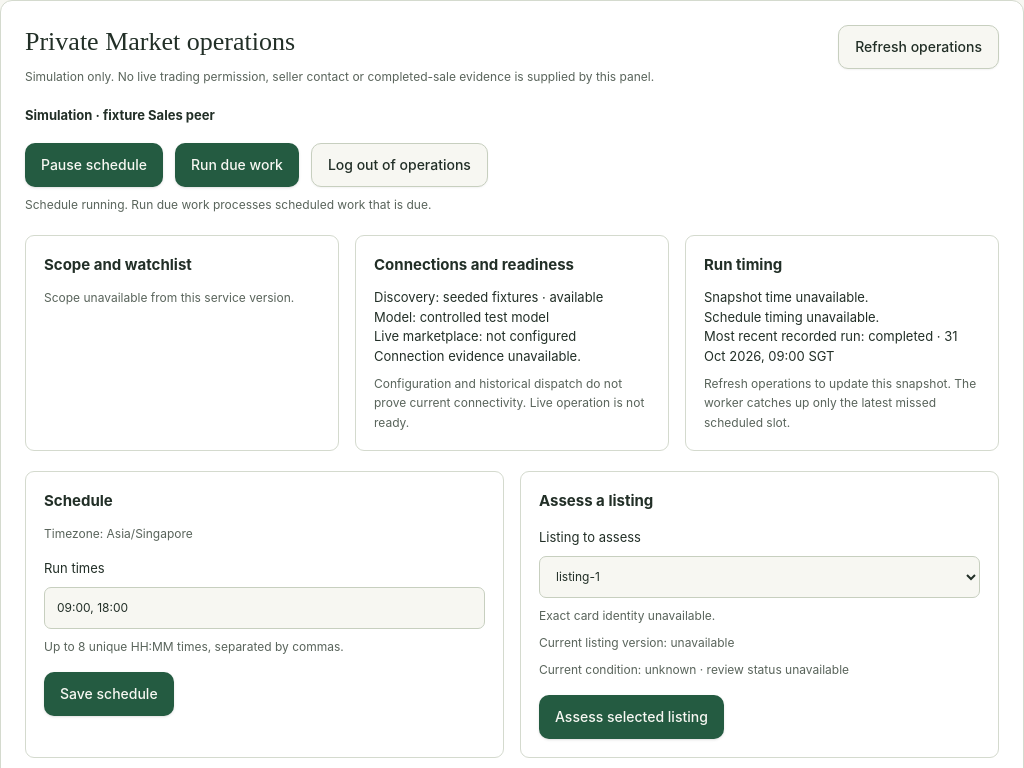
Test: announces failed mutations without reflecting server secrets and marks old records stale
This screenshot has width=1024, height=768.
Click the button "Run due work" at (237, 166), box [175,144,299,188]
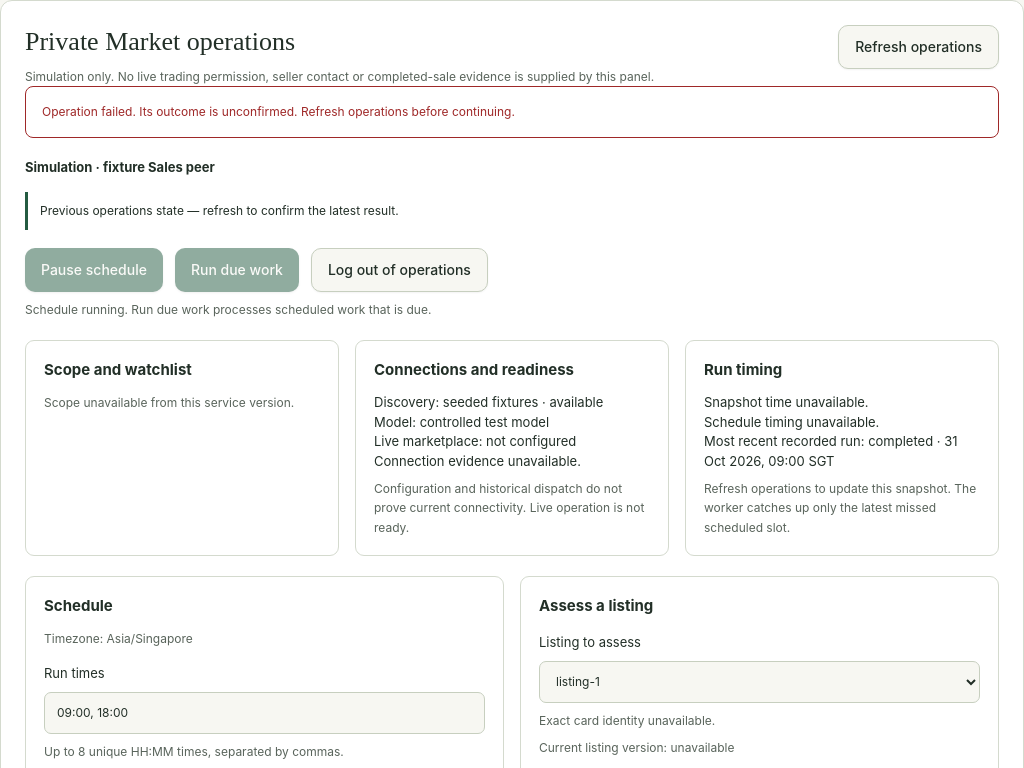
Check: the 1st message shows "Operation failed", box [42,104,515,119]
Check: the text "Previous operations state — refresh to confirm the latest result." is shown, box [25,192,999,230]
Check: the button "Run due work" is disabled, box [175,248,299,292]
